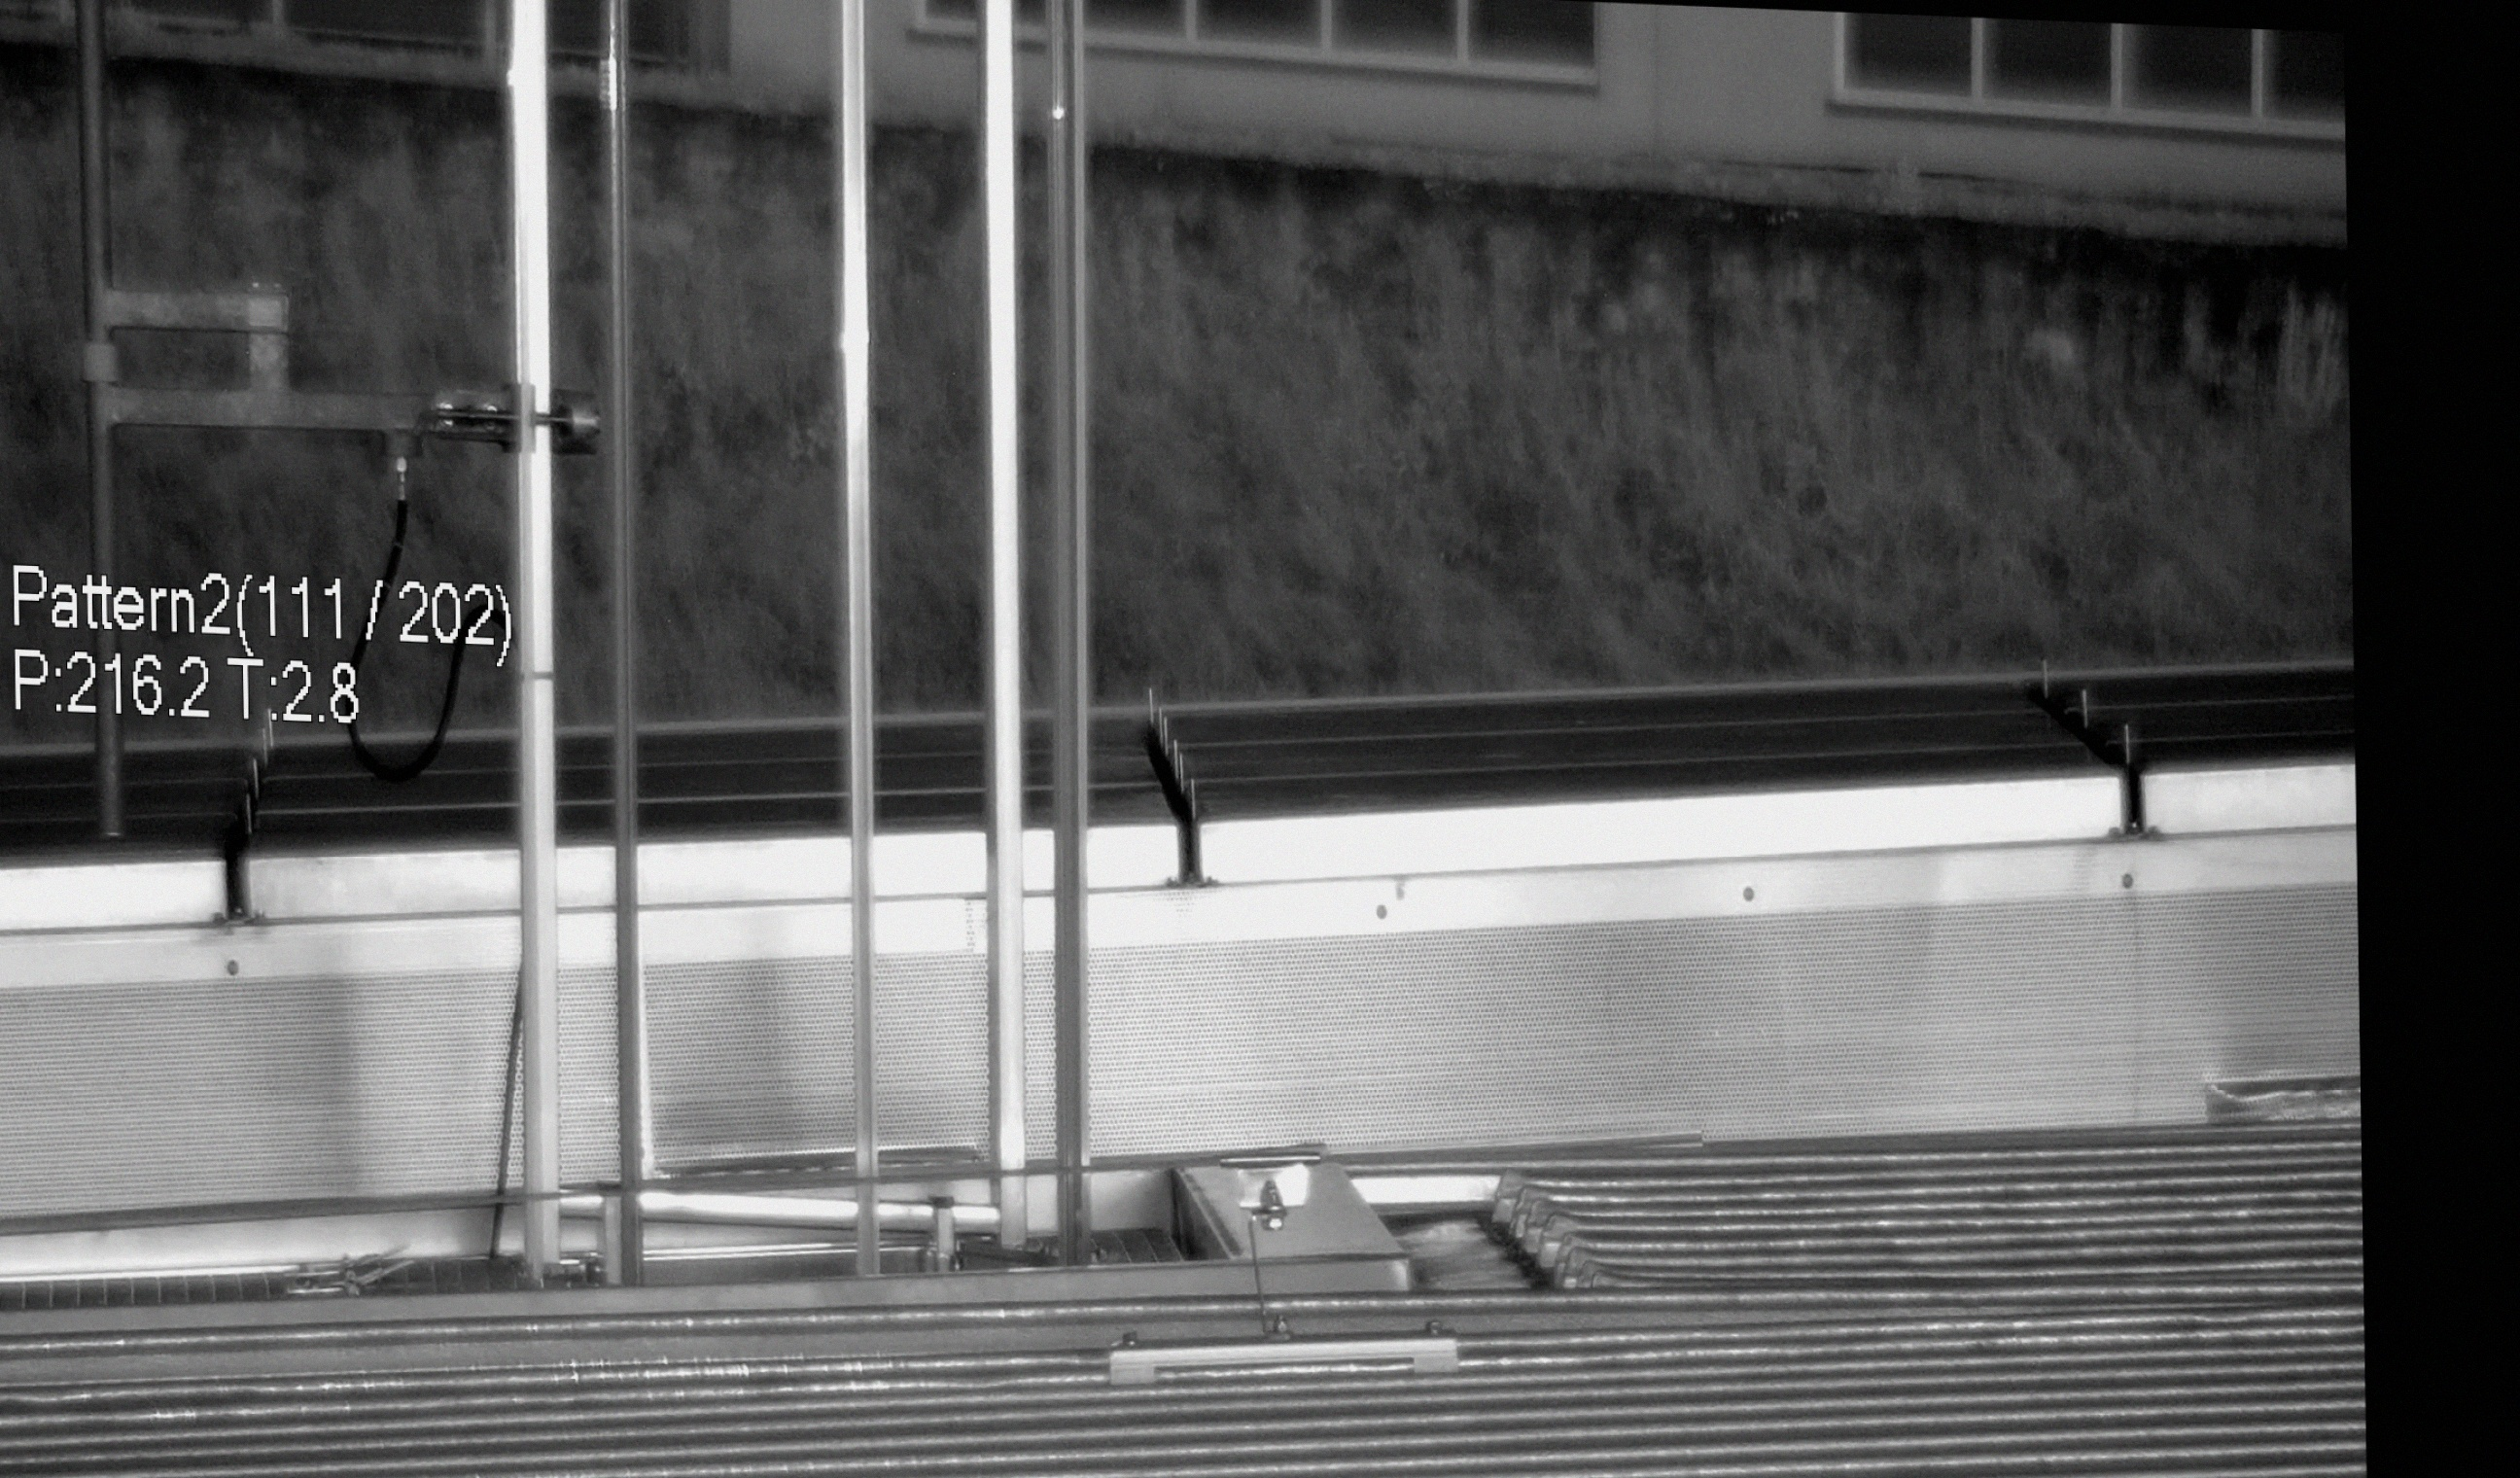Other: (1125, 669, 1220, 894)
